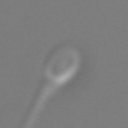normal: (15, 84, 62, 124)
